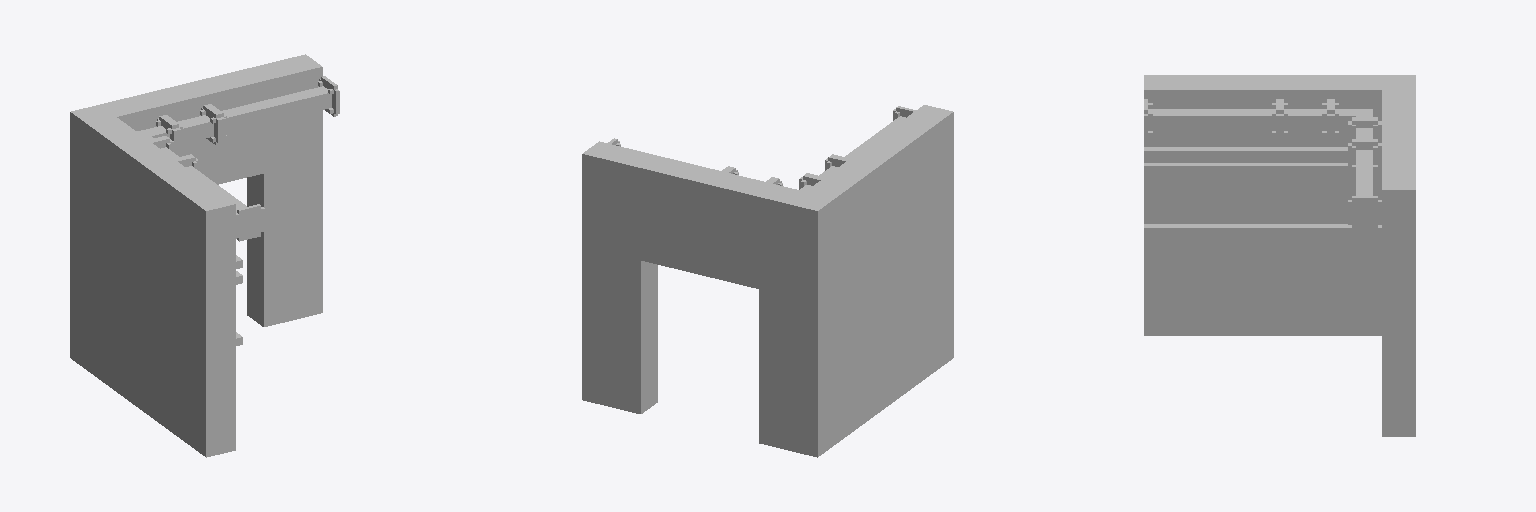
File: Menu Obs-7.obj
The picture shows the model from 3 angles: view 1: azimuth 30°, elevation 25°; view 2: azimuth 150°, elevation 25°; view 3: azimuth 270°, elevation 25°; orthographic projection.
Visible parts, largest first — view 1: Menu Obs-7; view 2: Menu Obs-7; view 3: Menu Obs-7.
Boxes of the visible parts, box(x1,y1,x2,y2) form: Menu Obs-7: box(70, 54, 339, 457); Menu Obs-7: box(582, 105, 953, 457); Menu Obs-7: box(1144, 75, 1415, 436).
Size of the model in its own units: 64 by 64 by 64.